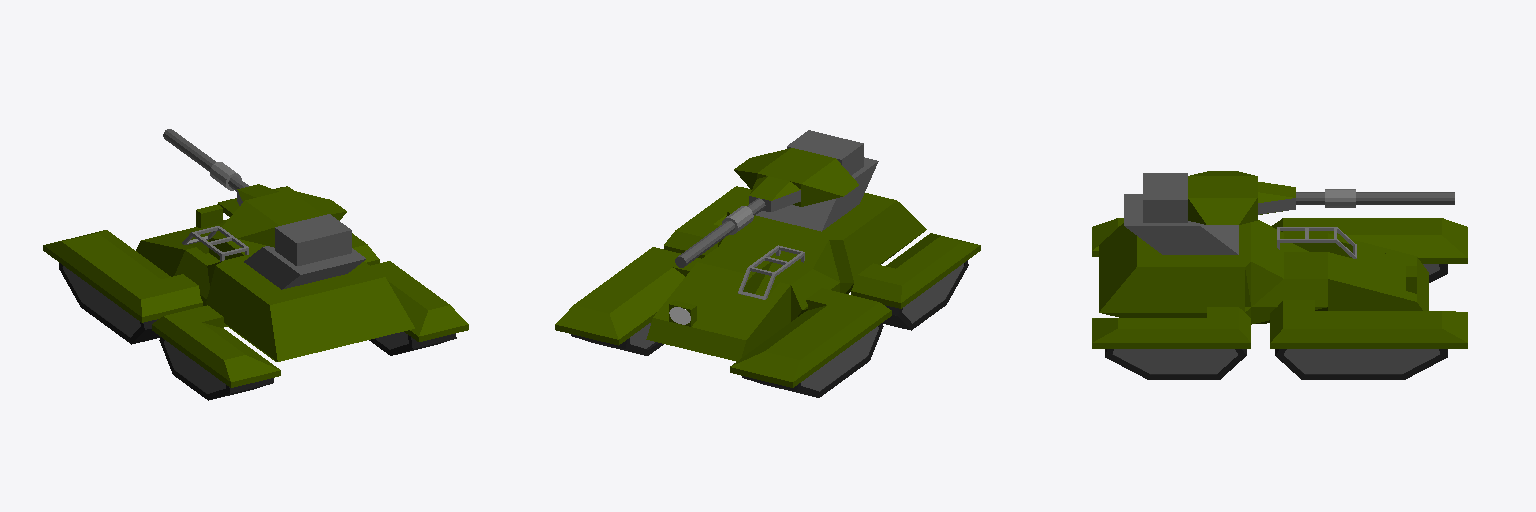
Rendered from Scorpion.obj.
The picture shows the model from 3 angles: view 1: azimuth 30°, elevation 25°; view 2: azimuth 150°, elevation 25°; view 3: azimuth 270°, elevation 25°; orthographic projection.
Visible parts, largest first — view 1: the_node.020_tri_930_geometry, the_node.017_tri_558_geometry, the_node.025_tri_714_geometry, the_node.018_tri_546_geometry.001, the_node.022_tri_546_geometry.002, the_node.001_tri_48_geometry.004, the_node.007_tri_336_geometry.001, the_node.021_tri_564_geometry.001; view 2: the_node.020_tri_930_geometry, the_node.017_tri_558_geometry, the_node.025_tri_714_geometry, the_node.021_tri_564_geometry.001, the_node.018_tri_546_geometry.001, the_node.001_tri_48_geometry.004, the_node.022_tri_546_geometry.002, the_node.007_tri_336_geometry.001; view 3: the_node.020_tri_930_geometry, the_node.021_tri_564_geometry.001, the_node.025_tri_714_geometry, the_node.022_tri_546_geometry.002, the_node.017_tri_558_geometry, the_node.001_tri_48_geometry.004, the_node.007_tri_336_geometry.001, the_node.018_tri_546_geometry.001.
Part boxes in pixels (left/top/right/bottom): the_node.020_tri_930_geometry: left=136, top=204, right=414, bottom=361; the_node.017_tri_558_geometry: left=43, top=230, right=202, bottom=344; the_node.025_tri_714_geometry: left=163, top=129, right=351, bottom=265; the_node.018_tri_546_geometry.001: left=152, top=305, right=280, bottom=400; the_node.022_tri_546_geometry.002: left=369, top=261, right=468, bottom=355; the_node.001_tri_48_geometry.004: left=244, top=246, right=365, bottom=289; the_node.007_tri_336_geometry.001: left=182, top=226, right=248, bottom=261; the_node.021_tri_564_geometry.001: left=218, top=186, right=379, bottom=265; the_node.020_tri_930_geometry: left=646, top=193, right=926, bottom=361; the_node.017_tri_558_geometry: left=730, top=288, right=891, bottom=397; the_node.025_tri_714_geometry: left=675, top=130, right=863, bottom=267; the_node.021_tri_564_geometry.001: left=555, top=247, right=700, bottom=355; the_node.018_tri_546_geometry.001: left=851, top=233, right=980, bottom=330; the_node.001_tri_48_geometry.004: left=756, top=157, right=878, bottom=231; the_node.022_tri_546_geometry.002: left=664, top=186, right=751, bottom=258; the_node.007_tri_336_geometry.001: left=738, top=245, right=804, bottom=299; the_node.020_tri_930_geometry: left=1099, top=220, right=1428, bottom=324; the_node.021_tri_564_geometry.001: left=1270, top=300, right=1467, bottom=379; the_node.025_tri_714_geometry: left=1143, top=171, right=1454, bottom=224; the_node.022_tri_546_geometry.002: left=1092, top=307, right=1250, bottom=379; the_node.017_tri_558_geometry: left=1272, top=218, right=1467, bottom=282; the_node.001_tri_48_geometry.004: left=1124, top=194, right=1238, bottom=254; the_node.007_tri_336_geometry.001: left=1277, top=227, right=1356, bottom=258; the_node.018_tri_546_geometry.001: left=1092, top=218, right=1123, bottom=256.
Size of the model in its own units: 7.84 by 4.36 by 10.73.